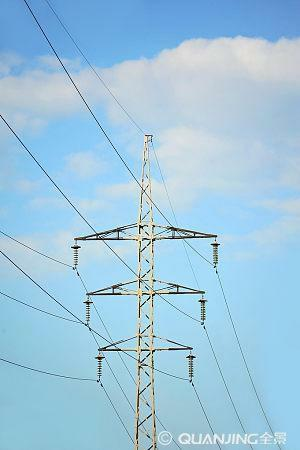power_tower: (52, 129, 215, 447)
